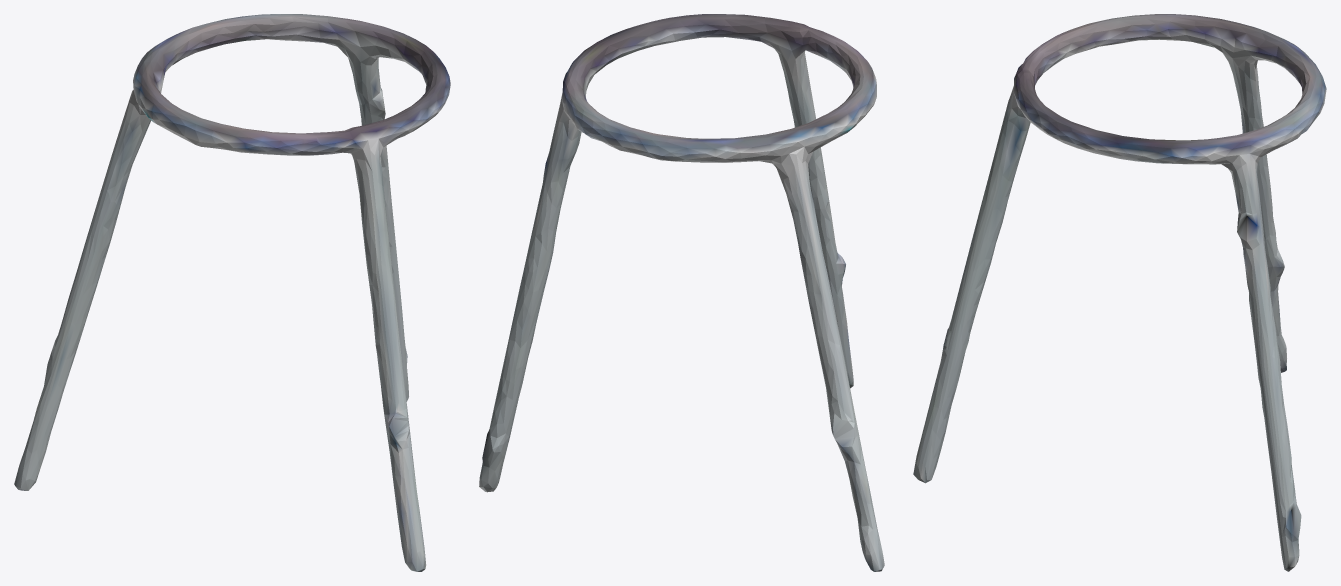
3 renders of one model, left to right at view 1: azimuth 30°, elevation 25°; view 2: azimuth 150°, elevation 25°; view 3: azimuth 270°, elevation 25°, orthographic.
Visible parts, largest first — view 1: scan.ply; view 2: scan.ply; view 3: scan.ply.
Part boxes in pixels (bbox=[...]): scan.ply: bbox=[14, 14, 450, 571]; scan.ply: bbox=[479, 14, 884, 571]; scan.ply: bbox=[913, 14, 1326, 571].
Bounding box in the file's own units: 0.1308 × 0.1313 × 0.1192.
